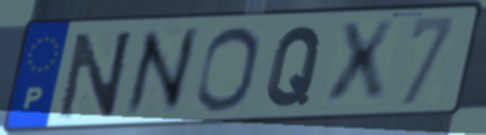7: (398, 15, 462, 109)
N: (55, 27, 137, 122), (122, 23, 202, 120)
O: (192, 24, 262, 114)
Q: (263, 24, 326, 110)
X: (323, 18, 399, 111)
